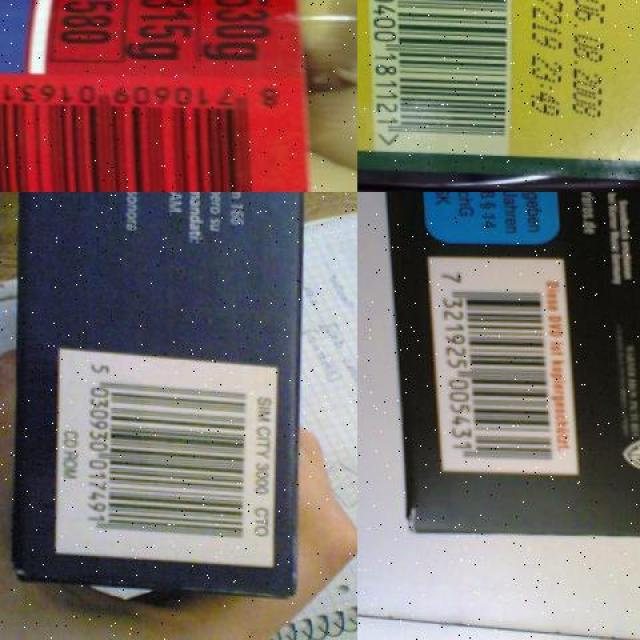Barcode: (43, 342, 286, 563), (0, 64, 307, 192), (435, 252, 576, 472), (363, 0, 517, 151)
